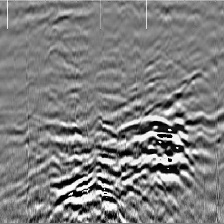cavities: (45, 90, 195, 224)
